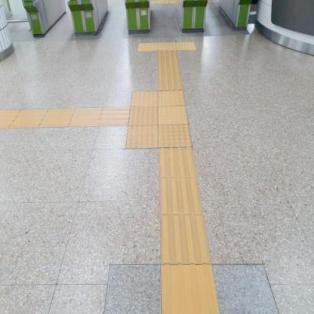Podoctatil: (161, 148, 222, 312), (114, 80, 198, 160), (0, 103, 128, 125), (158, 53, 180, 92), (140, 42, 196, 52)
